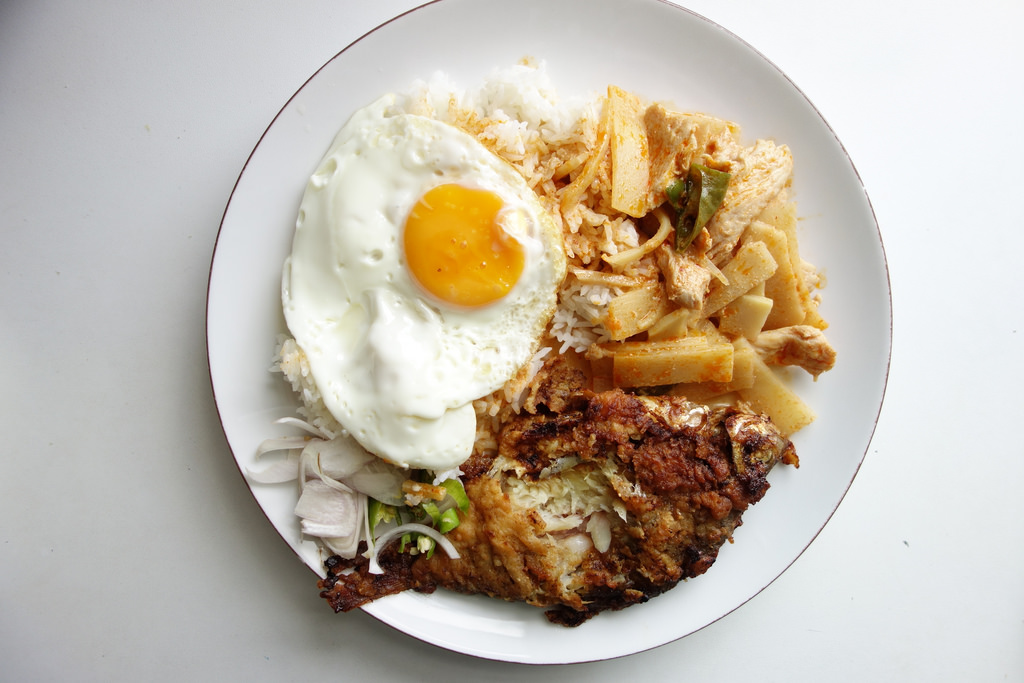fried egg: (316, 106, 528, 436)
